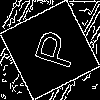P: (25, 25, 79, 71)
